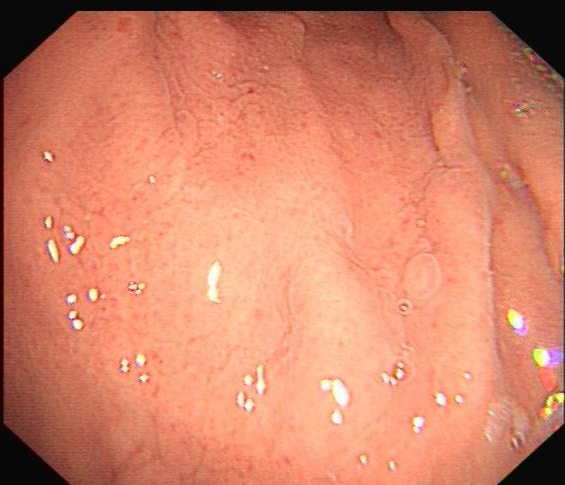Polyp: (386, 245, 451, 310)
